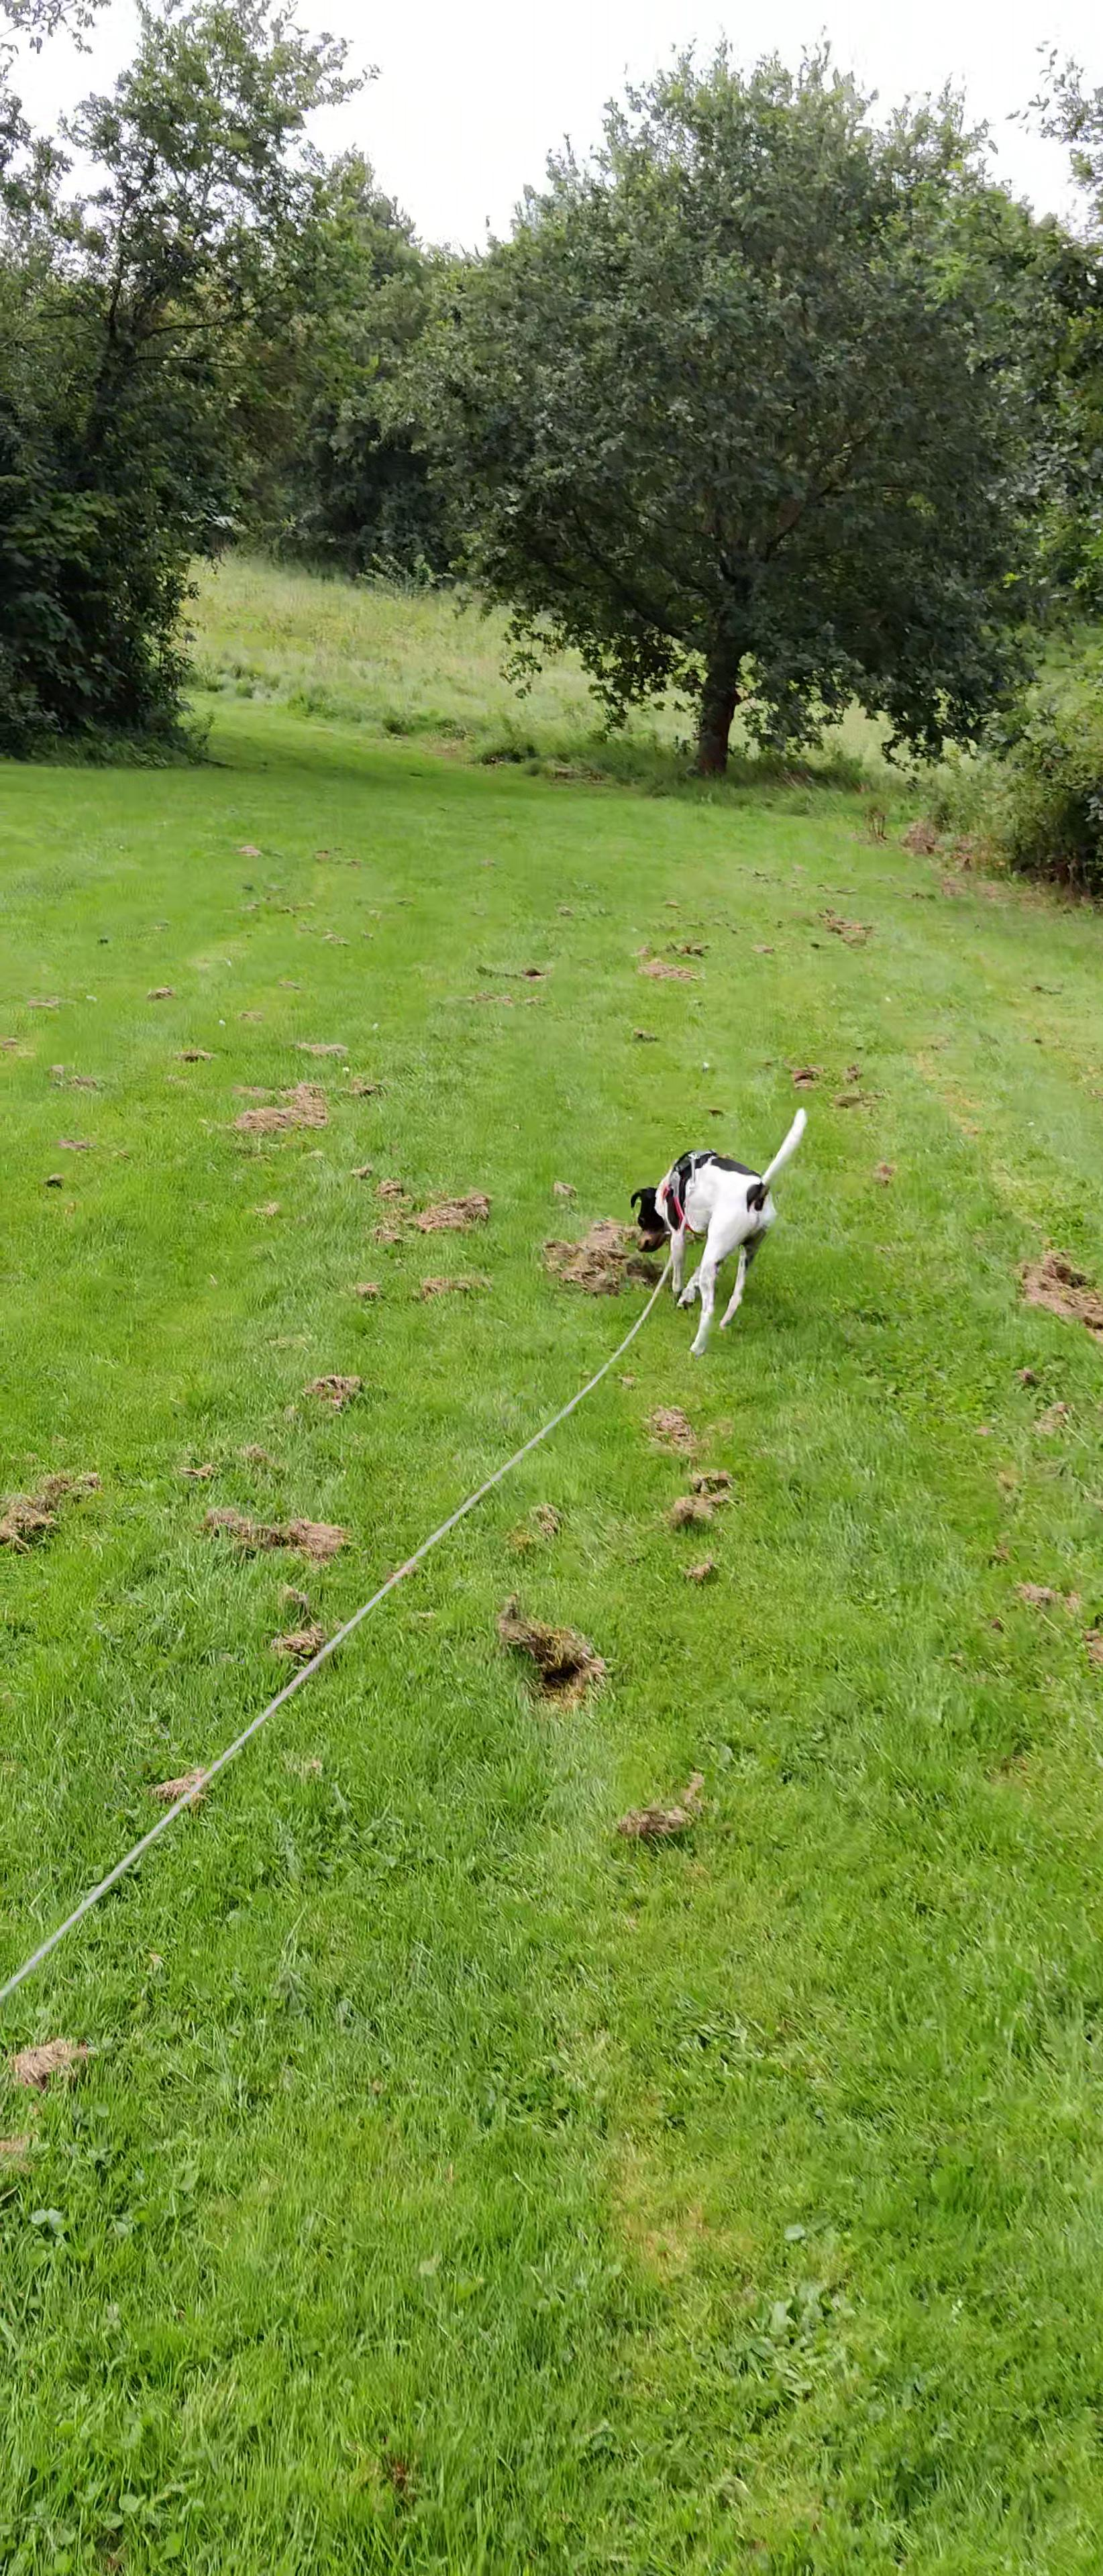Dog: (615, 1086, 830, 1373)
